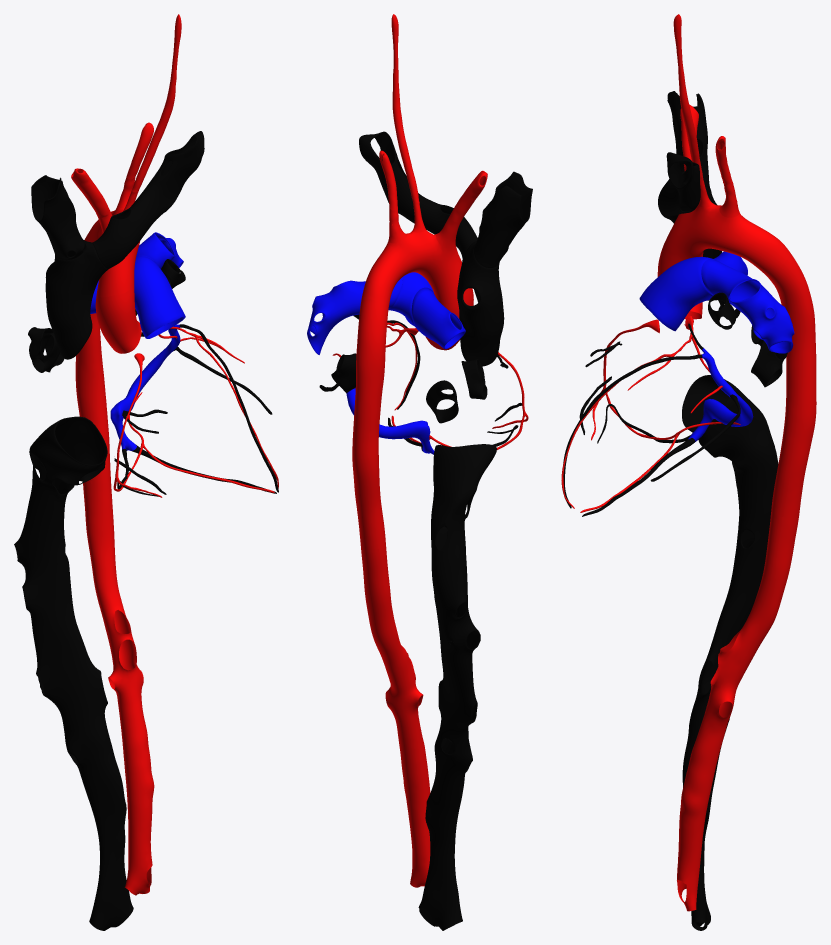
The model's file is VH_M_Heart_Landmarks.fbx.
3 renders of one model, left to right at view 1: azimuth 30°, elevation 25°; view 2: azimuth 150°, elevation 25°; view 3: azimuth 270°, elevation 25°, orthographic. The views are drawn at different scales.
Parts seen in each view (by area): view 1: VH_M_heart_landmark_veins, VH_M_heart_landmark_arteries; view 2: VH_M_heart_landmark_veins, VH_M_heart_landmark_arteries; view 3: VH_M_heart_landmark_arteries, VH_M_heart_landmark_veins.
Part boxes in pixels (box(x1,y1,x2,y2)): VH_M_heart_landmark_veins: box(14, 131, 278, 930); VH_M_heart_landmark_arteries: box(71, 14, 278, 895); VH_M_heart_landmark_veins: box(319, 131, 532, 930); VH_M_heart_landmark_arteries: box(307, 14, 528, 887); VH_M_heart_landmark_arteries: box(561, 14, 816, 911); VH_M_heart_landmark_veins: box(563, 91, 787, 930).
Size of the model in its own units: 13.02 by 51.42 by 12.58.
